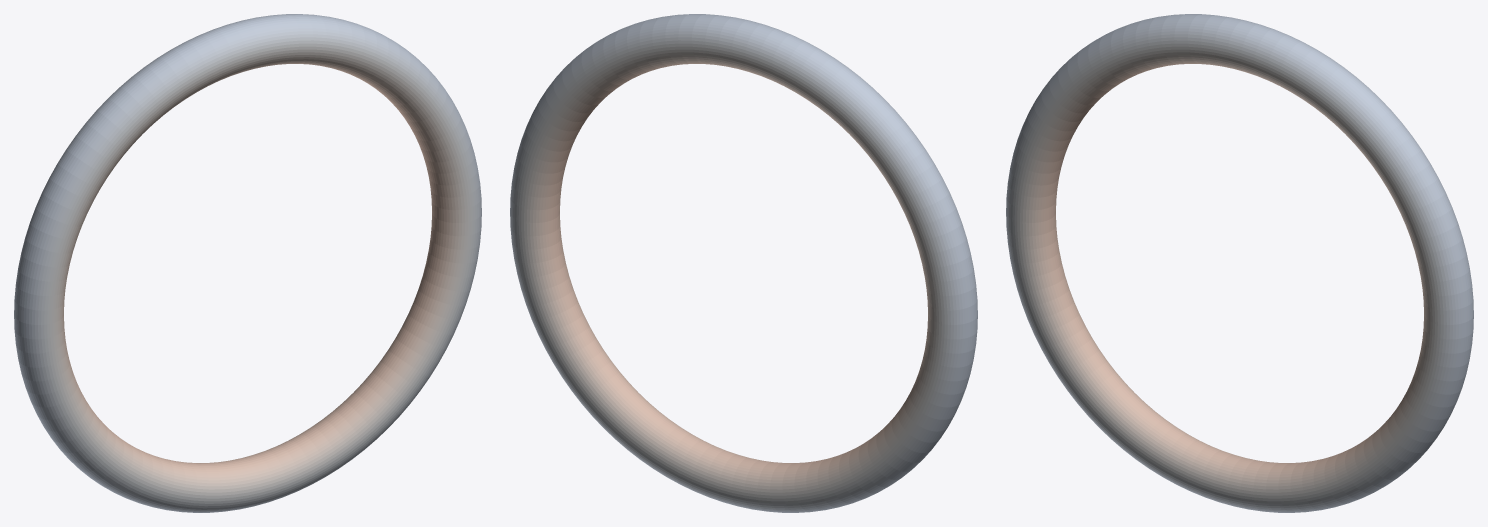
3 renders of one model, left to right at view 1: azimuth 30°, elevation 25°; view 2: azimuth 150°, elevation 25°; view 3: azimuth 330°, elevation 25°, orthographic.
Parts seen in each view (by area): view 1: world; view 2: world; view 3: world.
Part boxes in pixels (left/top/right/bottom): world: left=14, top=14, right=481, bottom=512; world: left=510, top=14, right=977, bottom=512; world: left=1006, top=14, right=1473, bottom=512.
Size of the model in its own units: 21.33 by 21.33 by 2.
